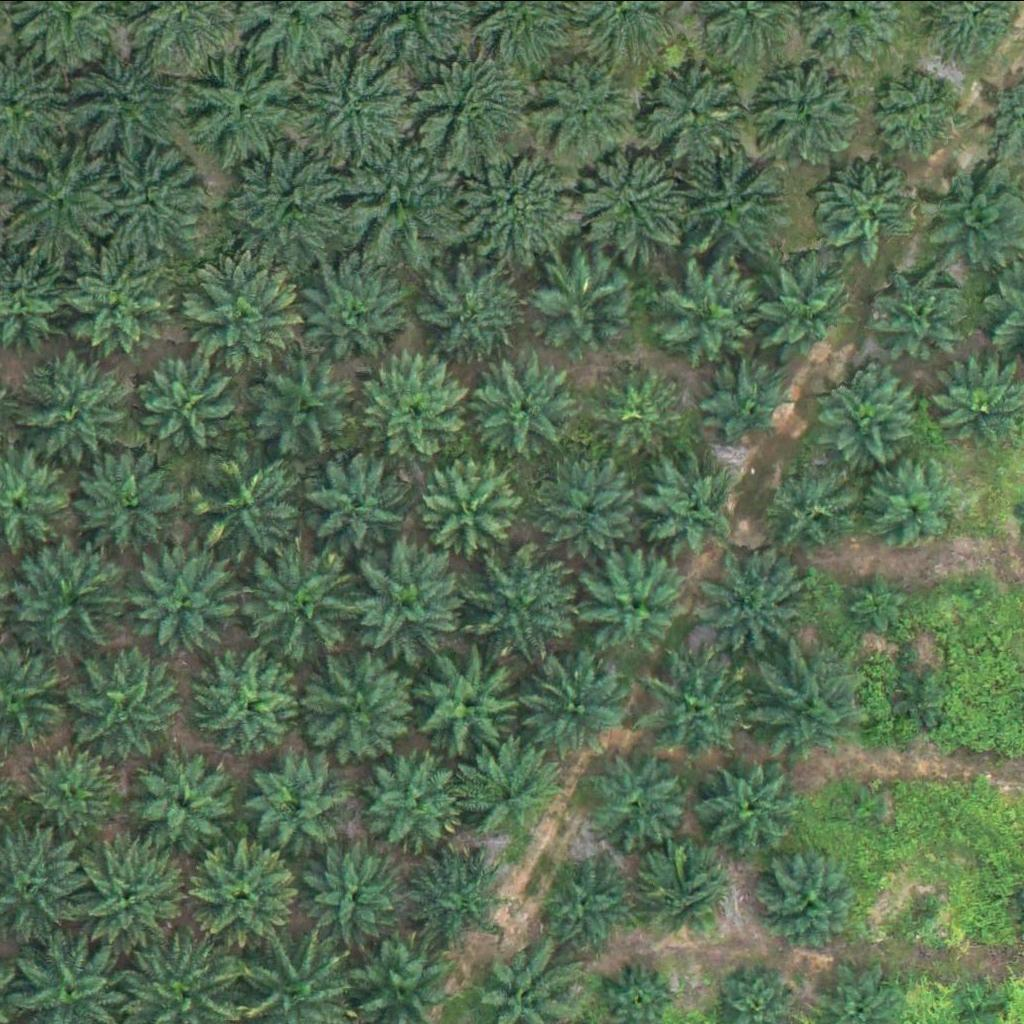Kelapa_Sawit: (349, 537, 475, 662), (173, 248, 299, 373), (290, 252, 416, 377), (231, 135, 357, 260), (342, 135, 468, 260), (61, 35, 187, 160), (451, 138, 577, 263), (416, 47, 542, 172), (294, 40, 419, 165), (568, 143, 693, 268), (69, 642, 183, 755), (191, 651, 304, 764), (304, 648, 417, 761), (20, 351, 133, 464), (700, 546, 813, 659), (470, 548, 583, 661), (191, 55, 304, 168), (679, 146, 792, 259), (123, 545, 237, 657), (246, 547, 360, 659), (197, 450, 311, 562), (364, 350, 478, 462), (79, 835, 192, 947), (180, 835, 293, 947), (20, 541, 133, 653), (63, 249, 176, 361), (99, 141, 212, 253), (644, 648, 757, 760), (752, 652, 865, 764), (305, 841, 406, 941), (131, 749, 232, 849), (254, 751, 355, 851), (73, 454, 174, 554), (141, 352, 242, 452), (752, 261, 853, 361), (821, 366, 922, 466), (545, 455, 646, 555), (639, 455, 740, 555), (758, 462, 859, 562), (585, 554, 686, 654), (421, 650, 522, 750), (518, 657, 619, 757), (701, 756, 802, 856), (589, 749, 690, 849), (454, 740, 555, 840), (366, 753, 467, 853), (407, 849, 508, 949), (539, 849, 640, 949), (635, 845, 736, 945), (819, 160, 920, 260), (767, 63, 868, 163), (646, 65, 747, 165), (534, 60, 635, 160), (25, 741, 125, 841), (302, 448, 402, 548), (256, 358, 356, 458), (428, 261, 528, 361), (536, 253, 636, 353), (662, 265, 762, 365), (478, 354, 578, 454), (423, 457, 523, 557), (755, 853, 855, 953), (706, 358, 794, 446), (598, 365, 686, 453), (876, 271, 964, 359), (873, 461, 962, 548), (877, 73, 965, 160), (841, 570, 904, 632), (840, 782, 890, 832), (905, 886, 955, 936), (899, 671, 949, 721), (959, 573, 997, 610)
